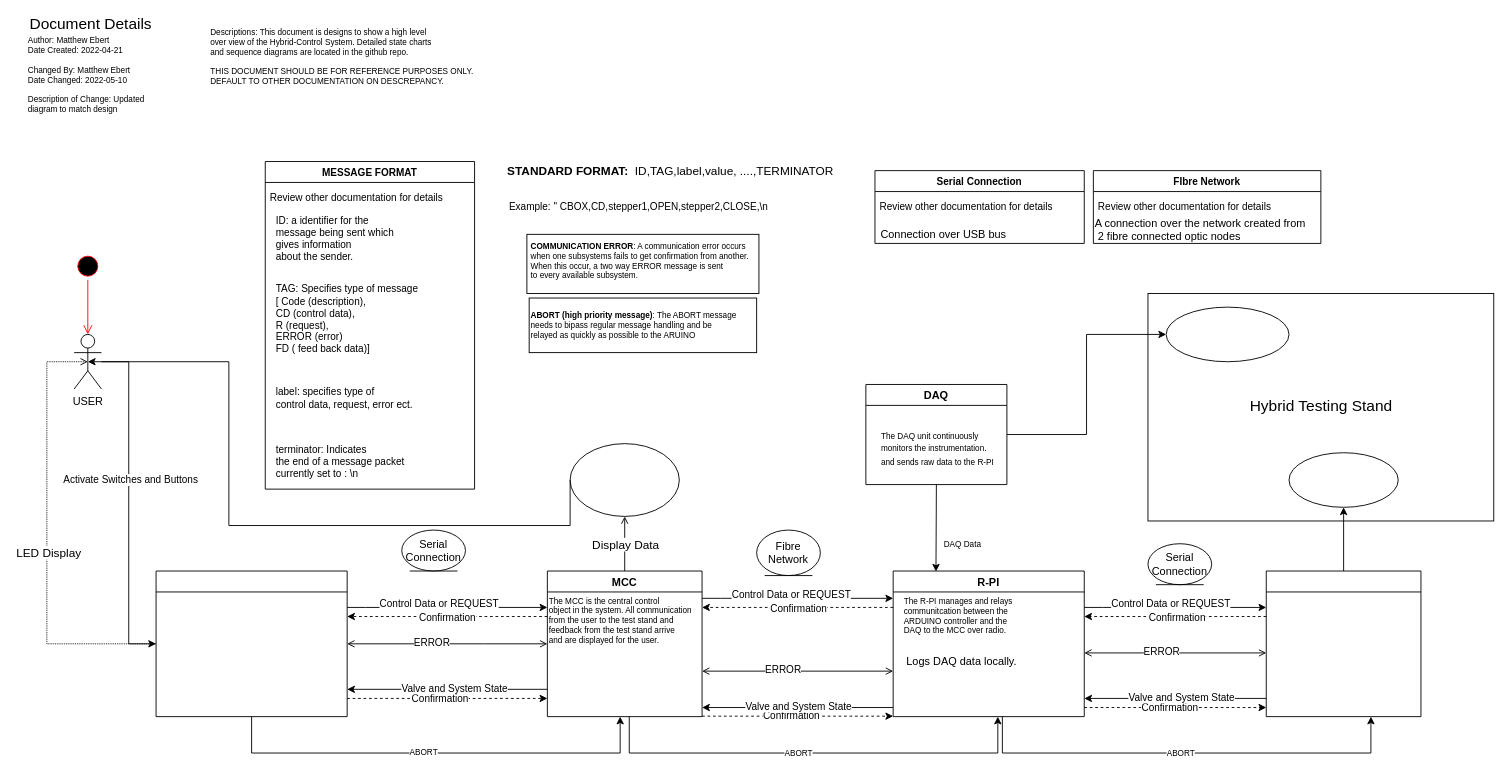
This 1510x776 diagram has some shape labels left out. The centre of each missing label's shape, as x and y in pixels:
ACTUATORS: (x=1343, y=479)
Control Box: (x=251, y=643)
Display and UI: (x=624, y=479)
INSTRUMENTATION: (x=1227, y=334)
Valve Control Arduino: (x=1343, y=643)
